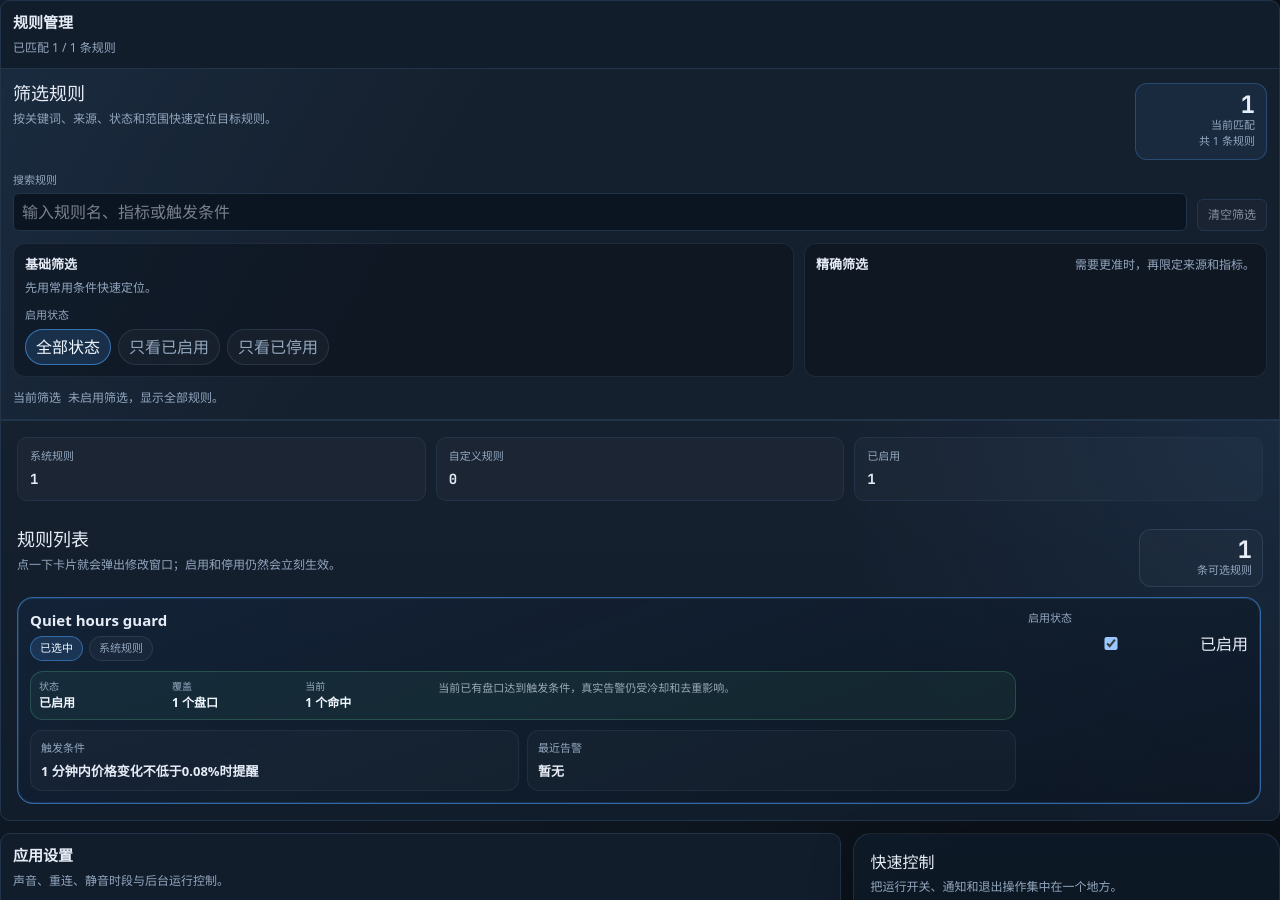
it: RulesSettingsView behavior › keeps scope controls out of the modal editor
Click the button with class "rule-card" at (639, 701), box [17, 597, 1261, 804]
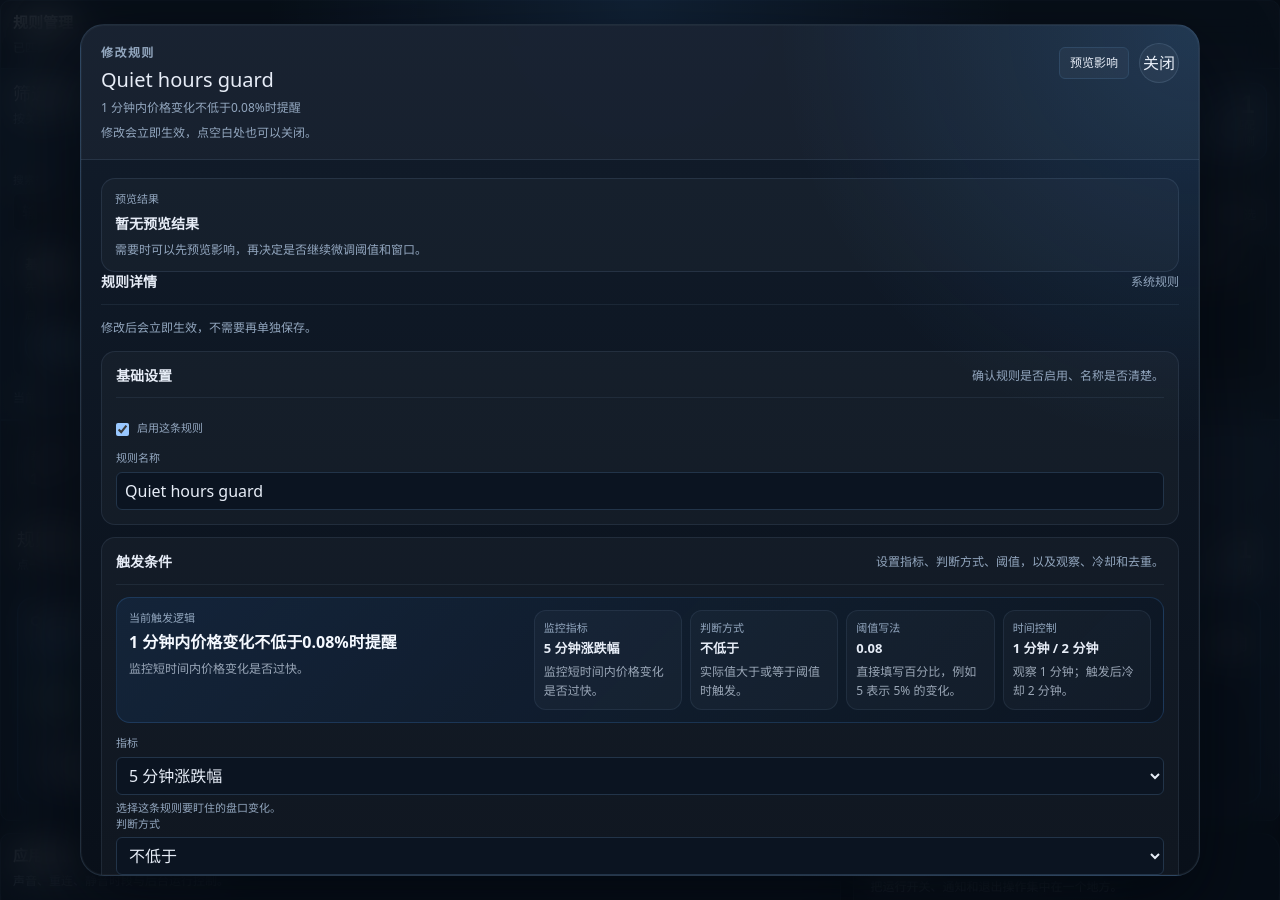
Expected: the dialog is shown
